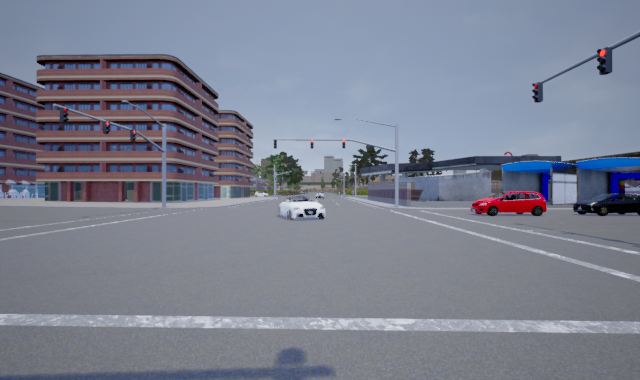vehicle: (469, 191, 552, 216), (572, 193, 639, 216), (275, 194, 328, 222)
